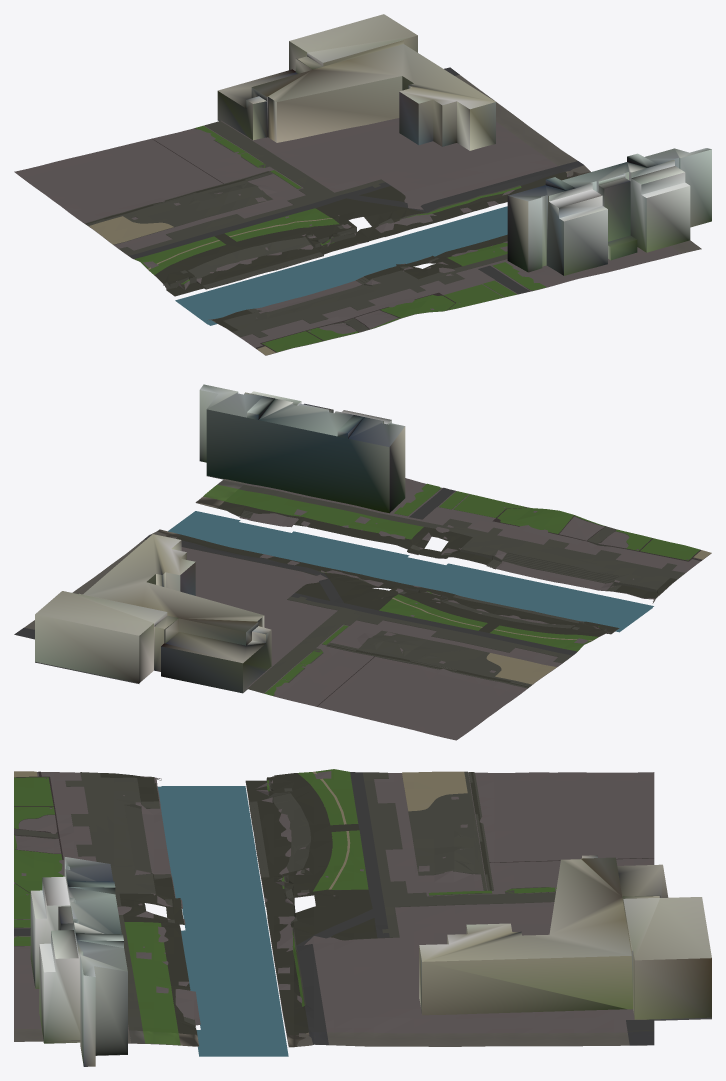
The picture shows the model from 3 angles, top to bottom: view 1: azimuth 30°, elevation 25°; view 2: azimuth 150°, elevation 25°; view 3: azimuth 270°, elevation 25°; orthographic projection. The views are drawn at different scales.
Parts seen in each view (by area): view 1: c_m15_p06; view 2: c_m15_p06; view 3: c_m15_p06.
Boxes of the visible parts, x1,y1,x2,y2 form: c_m15_p06: (14,14,711,355); c_m15_p06: (14,384,711,740); c_m15_p06: (14,769,711,1066).
Size of the model in its own units: 139 by 23.12 by 140.
